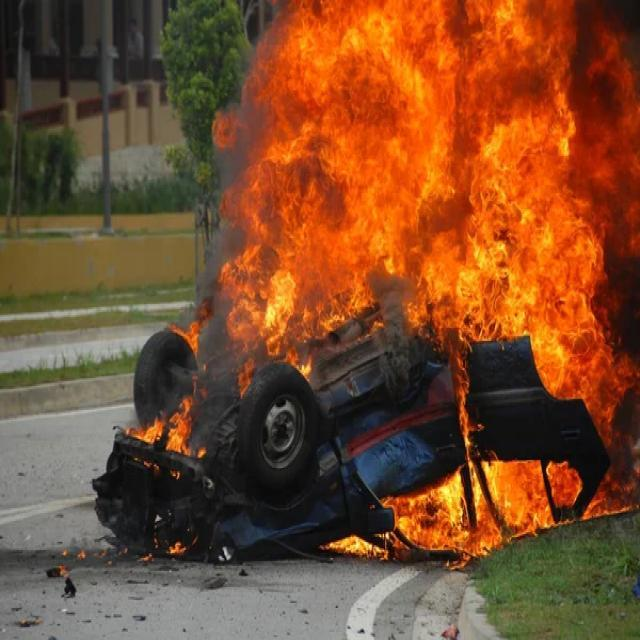fire: (224, 0, 633, 542), (134, 391, 207, 460)
